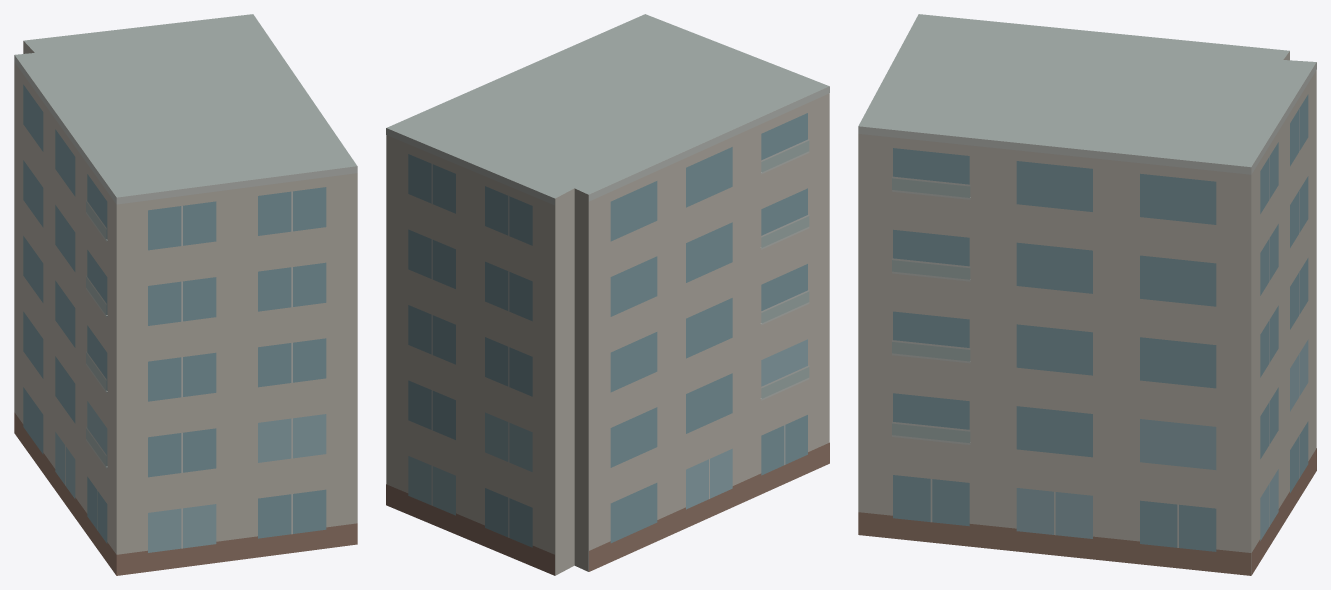
The model's file is survey-upis-33038042.glb.
3 views of the same model, side by side, from view 1: azimuth 30°, elevation 25°; view 2: azimuth 150°, elevation 25°; view 3: azimuth 270°, elevation 25° (orthographic). The views are drawn at different scales.
Parts seen in each view (by area): view 1: survey-upis-33038042.tmp; view 2: survey-upis-33038042.tmp; view 3: survey-upis-33038042.tmp.
Boxes of the visible parts, bbox=[...] form: survey-upis-33038042.tmp: bbox=[14, 14, 357, 575]; survey-upis-33038042.tmp: bbox=[386, 14, 829, 575]; survey-upis-33038042.tmp: bbox=[858, 14, 1316, 575].
Size of the model in its own units: 10.7 by 13.3 by 13.53.
